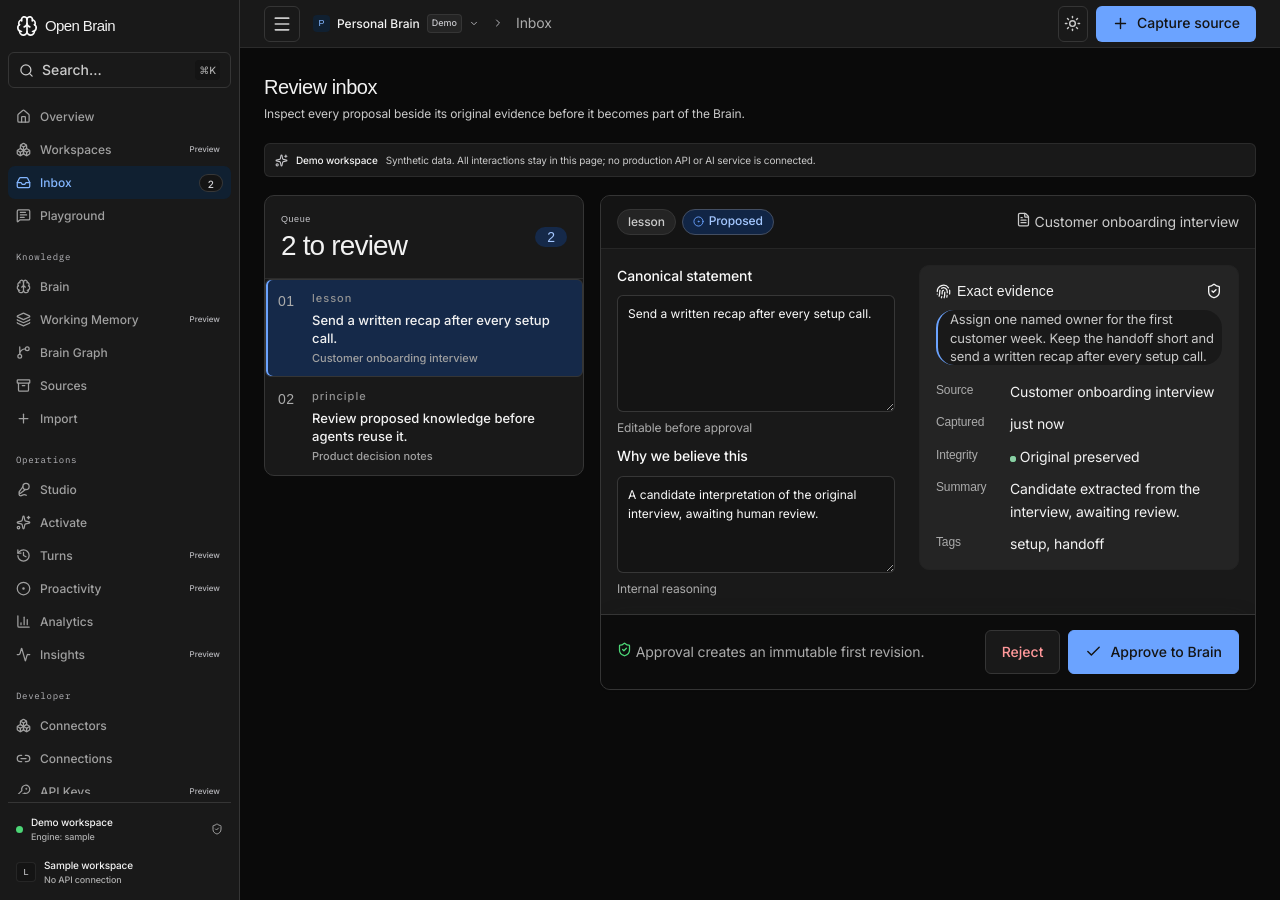
Test: App › runs the real demo layouts without requesting the authenticated workspace
Expected: the button "Send a written recap" is shown, [265,279,583,378]
Click the button "Approve to Brain": (1154, 652) [1068,630,1239,674]
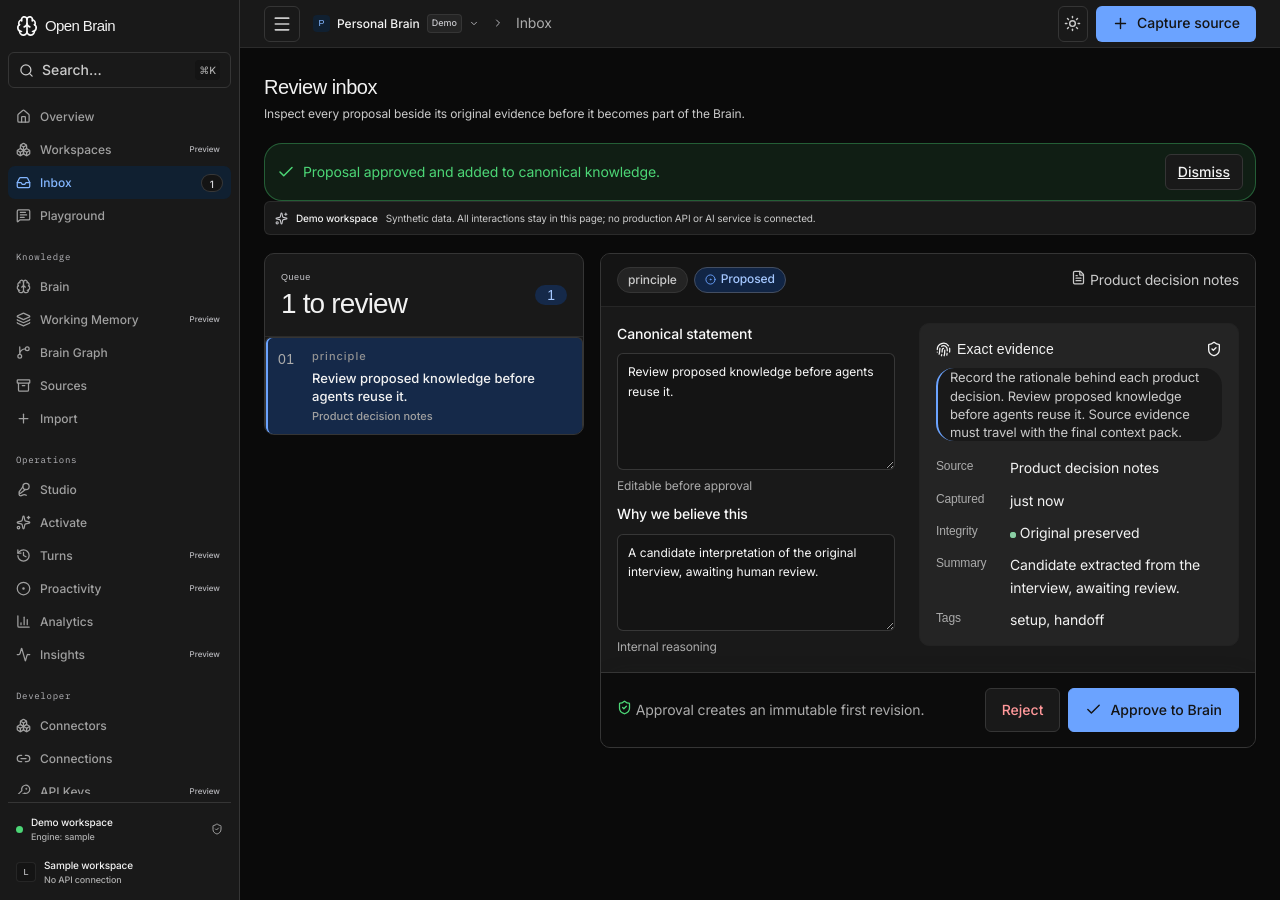
Now the text "Proposal approved and added to canonical knowledge." is shown, box [303,163,660,180]
Click the button "Brain": (120, 286) [8,270,231,303]
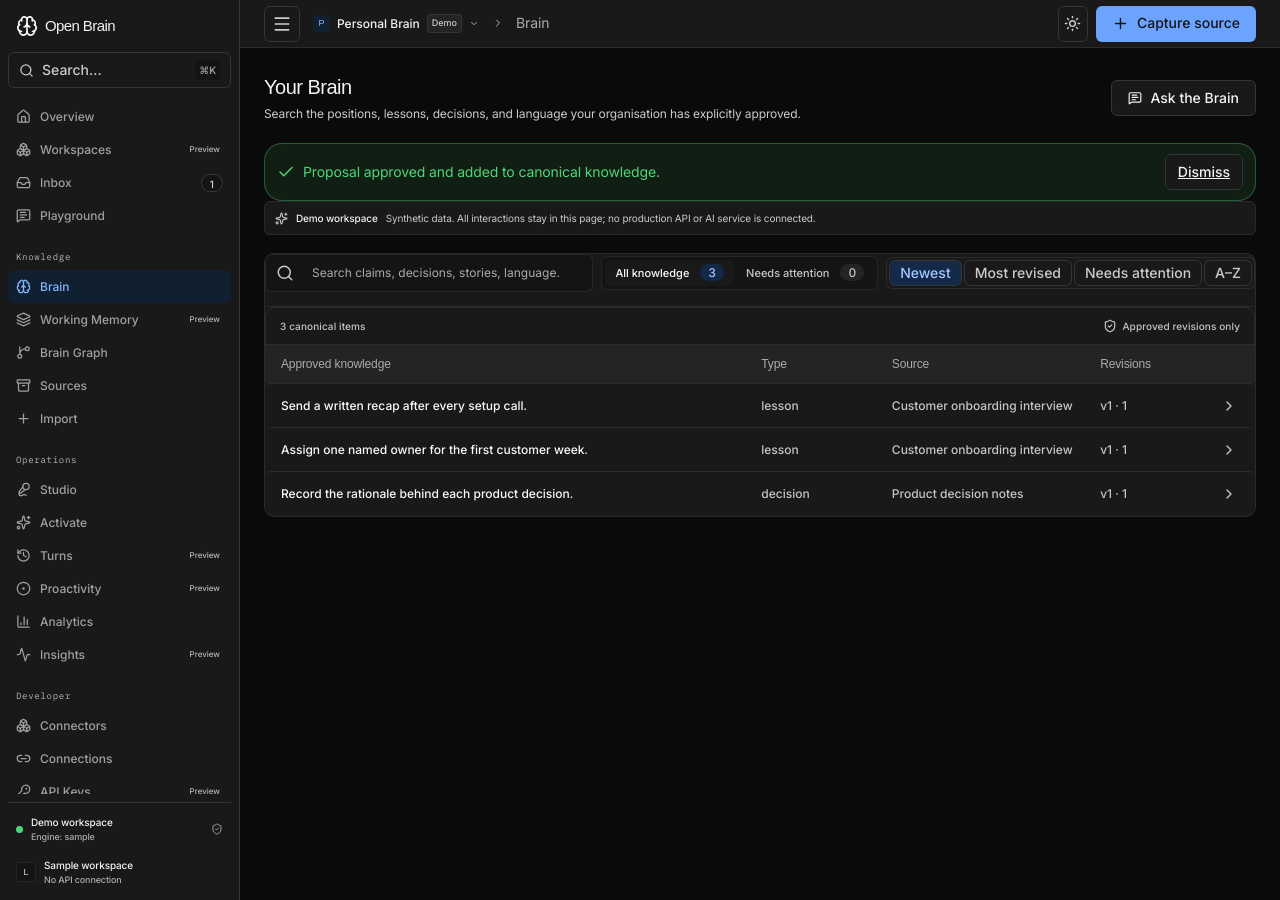
Now the button "Send a written recap" is shown, box [265,383,1255,427]
